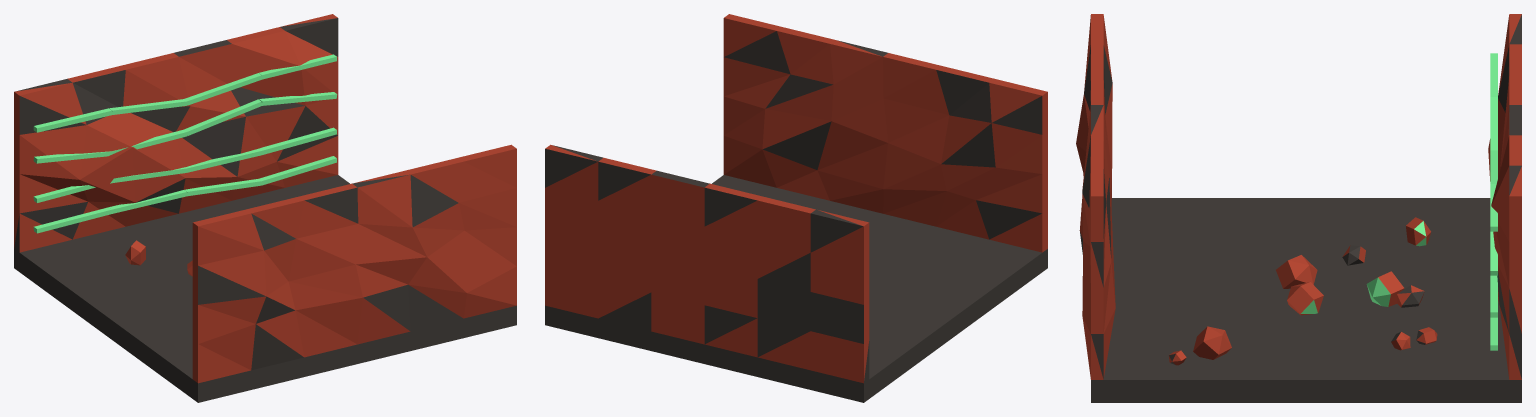
File: Kit_Dug_SourceChamber.fbx
The picture shows the model from 3 angles, left to right: view 1: azimuth 30°, elevation 25°; view 2: azimuth 150°, elevation 25°; view 3: azimuth 270°, elevation 25°; orthographic projection. The views are drawn at different scales.
Visible parts, largest first — view 1: FrontWall, BackRock, Floor, DecorNeon, Decor; view 2: FrontWall, BackRock, Floor; view 3: Floor, FrontWall, BackRock, Decor, DecorNeon.
Part boxes in pixels (x1,y1,x2,y2): FrontWall: [192, 144, 516, 383]; BackRock: [14, 14, 338, 252]; Floor: [14, 175, 516, 402]; DecorNeon: [33, 54, 337, 233]; Decor: [125, 240, 192, 276]; FrontWall: [723, 14, 1047, 252]; BackRock: [545, 144, 869, 383]; Floor: [545, 175, 1047, 402]; Floor: [1091, 198, 1521, 402]; FrontWall: [1076, 14, 1115, 379]; BackRock: [1488, 14, 1521, 379]; Decor: [1168, 217, 1437, 365]; DecorNeon: [1490, 53, 1497, 350].
Size of the model in its own units: 34 by 18 by 35.18.
